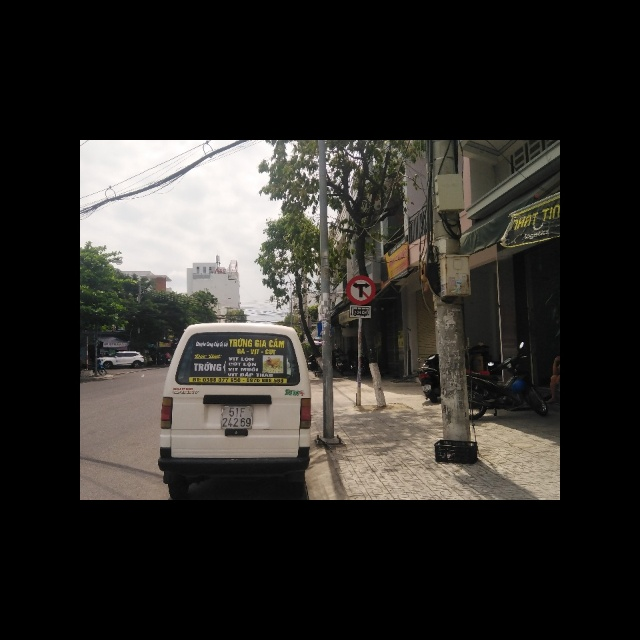Cấm rẽ trái và rẽ phải: (345, 275, 376, 306)
